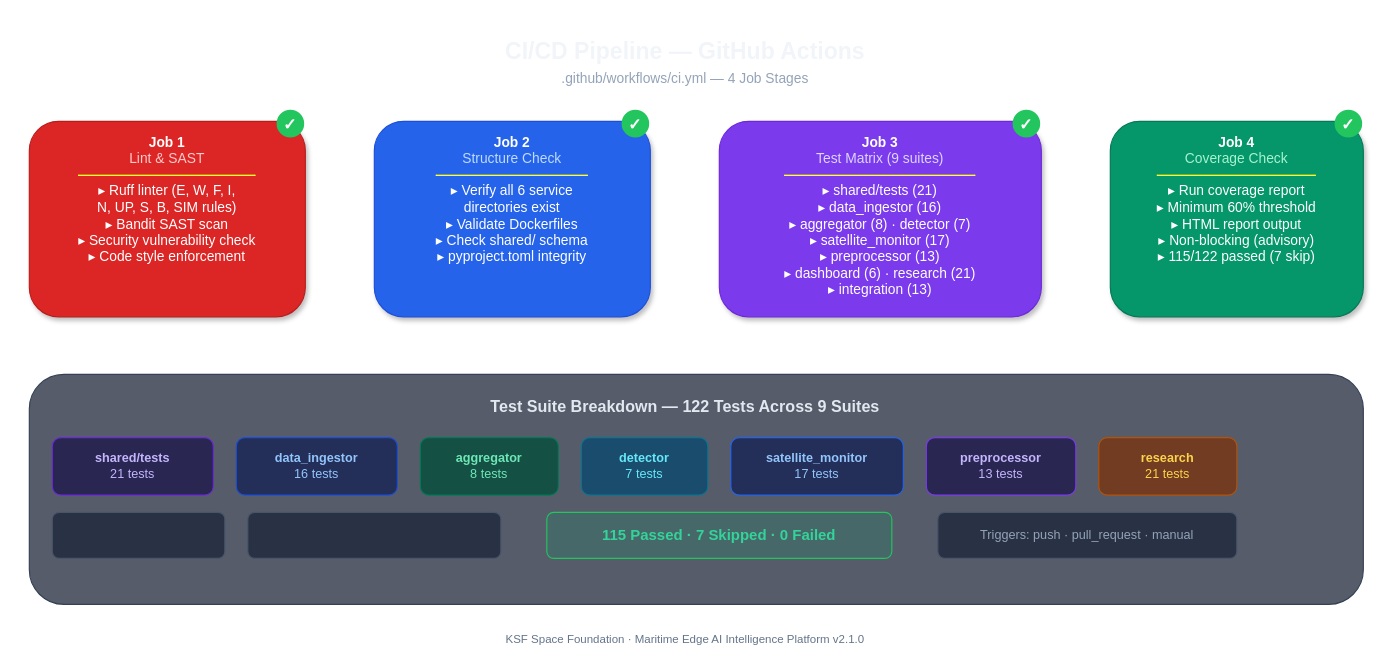
Some shapes in this 1390 by 669 pixel diagram are drawn without their labels. The shapes that lost their labels are listed below. From the top down, each one's centre as x and y in pixels, then its label:
At point (138, 534): "dashboard · 6 tests".
At point (374, 534): "integration · 13 tests (4 skipped)".
